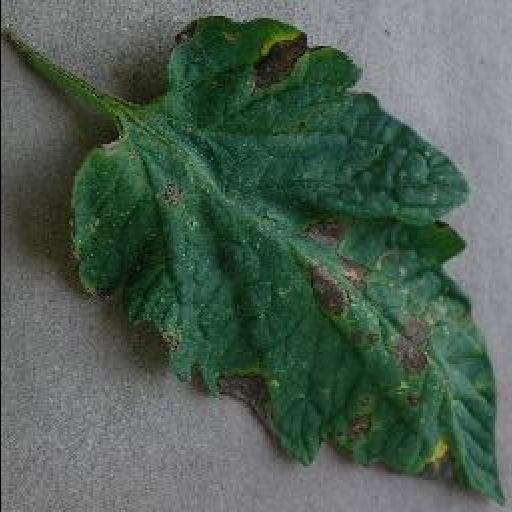disease_tomato: (63, 16, 505, 504)
